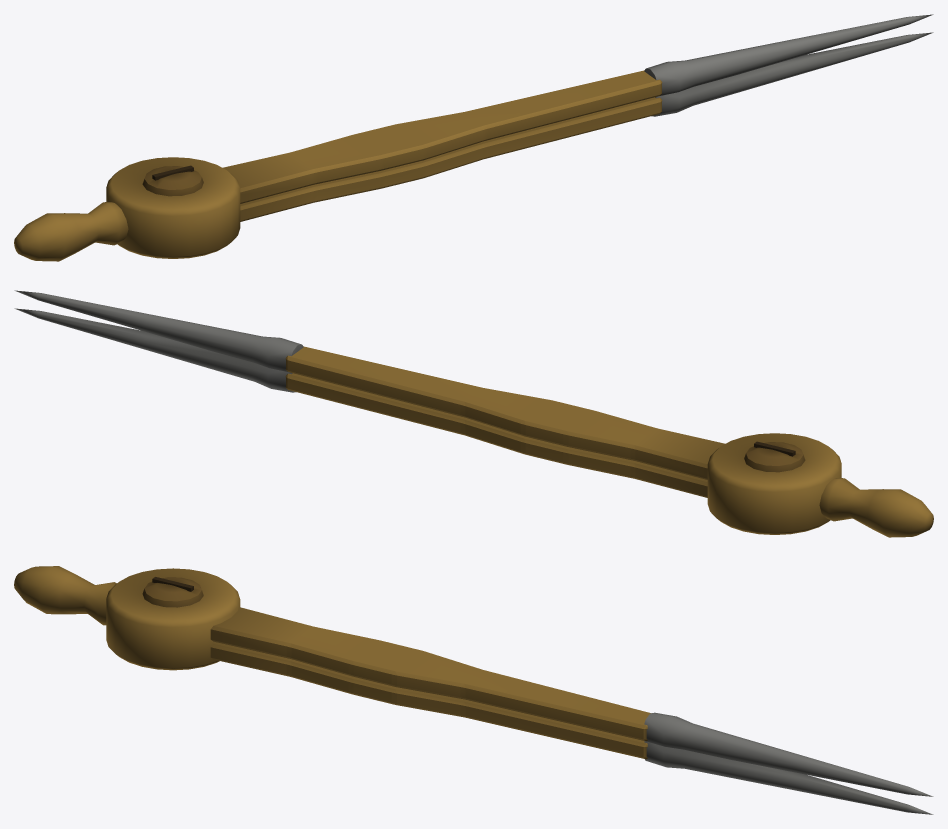
The model's file is dividers.glb.
3 views of the same model, one above another, from view 1: azimuth 30°, elevation 25°; view 2: azimuth 150°, elevation 25°; view 3: azimuth 330°, elevation 25° (orthographic).
Visible parts, largest first — view 1: anim_leg_b, base, anim_leg_a; view 2: anim_leg_b, base, anim_leg_a; view 3: anim_leg_b, base, anim_leg_a.
Part boxes in pixels (x1,y1,x2,y2): anim_leg_b: (222,14,933,203); base: (14,157,240,261); anim_leg_a: (240,32,933,221); anim_leg_b: (14,290,725,479); base: (707,433,933,537); anim_leg_a: (14,308,707,497); anim_leg_b: (210,607,933,796); base: (14,566,240,670); anim_leg_a: (210,642,933,814).
Size of the model in its own units: 0.2135 by 0.0139 by 0.027.
